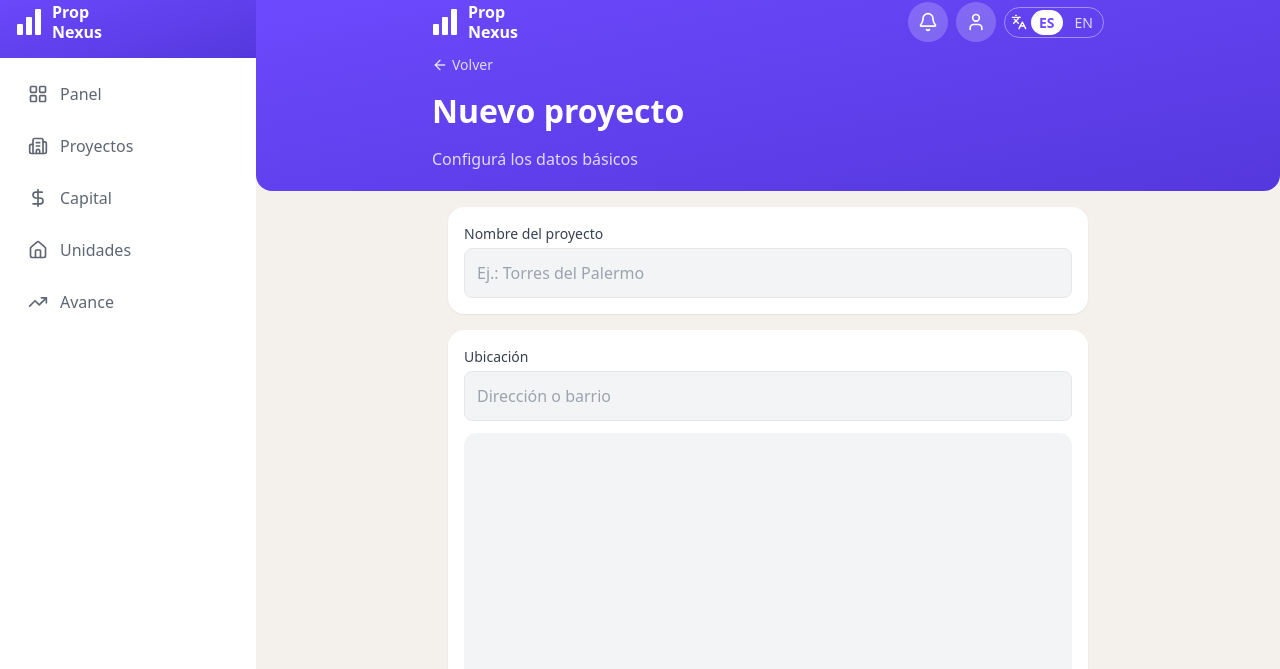
/developer/project/new › una respuesta que llega después de cambiar la dirección se descarta, acierte o falle
Type "Torre X" into the field labelled "Nombre del proyecto" at (768, 273), box [464,248,1072,298]
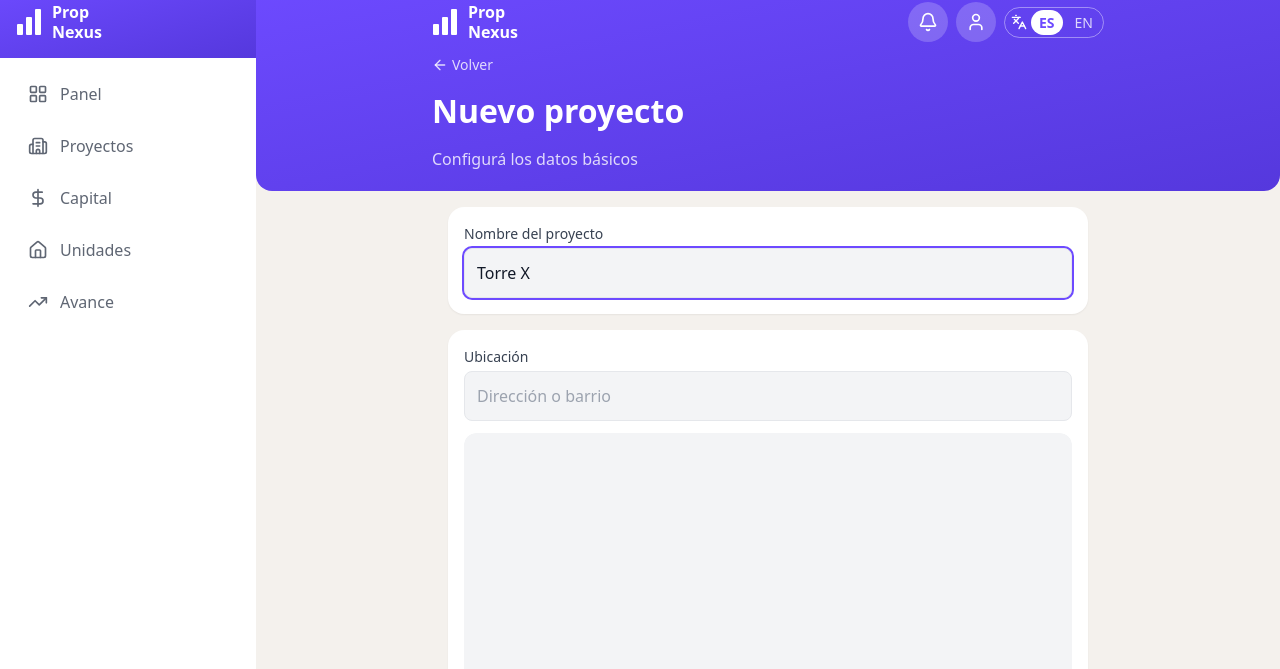
Type "Florida 100" into the field labelled "Ubicación" at (768, 396), box [464,371,1072,421]
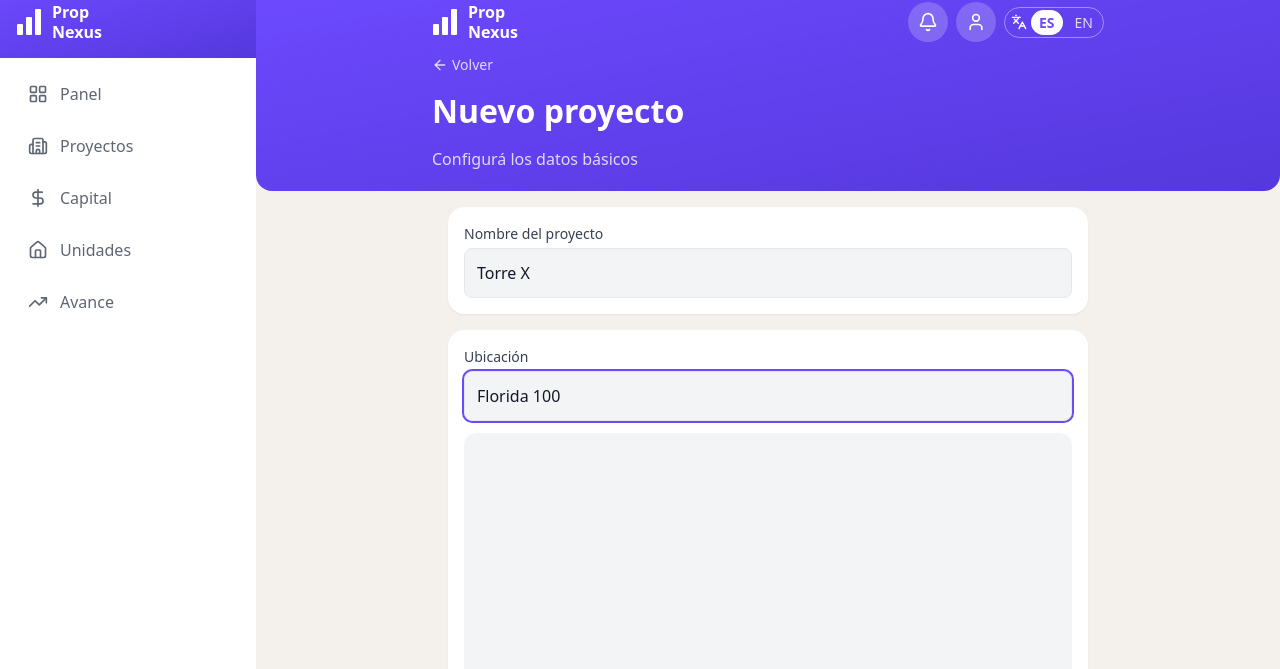
Type "0" into the field labelled "Ubicación" at (768, 396), box [464,371,1072,421]
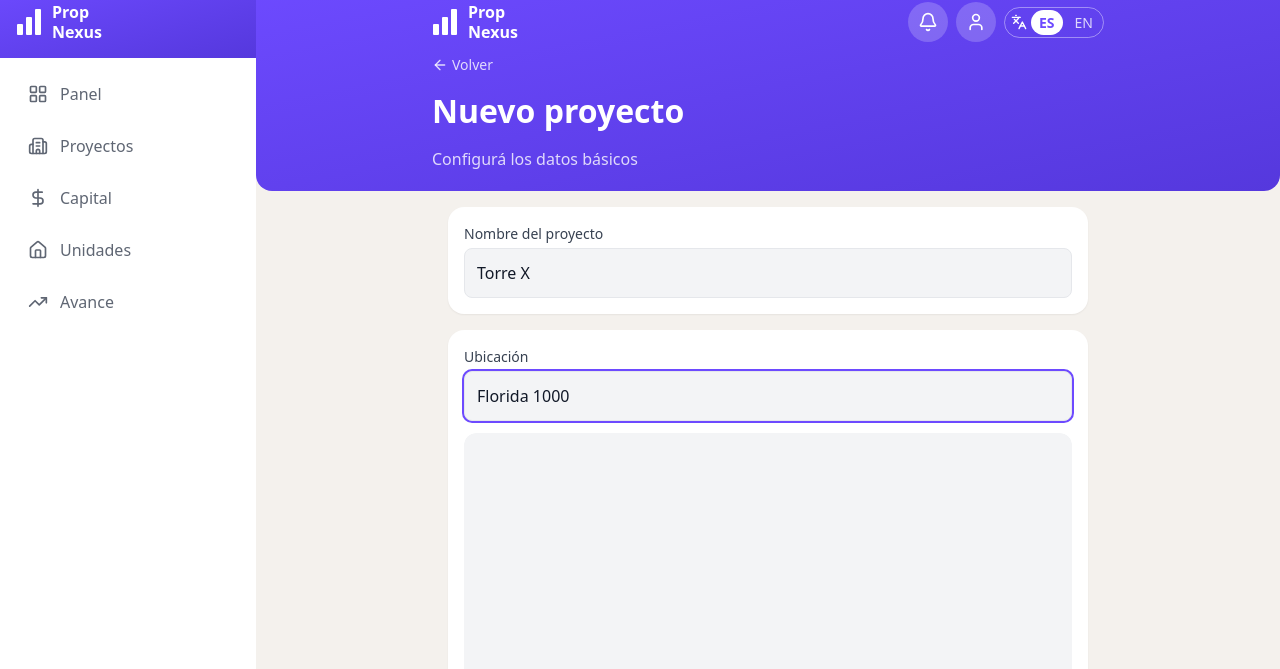
Type "0" into the field labelled "Ubicación" at (768, 396), box [464,371,1072,421]
(page scrolled)
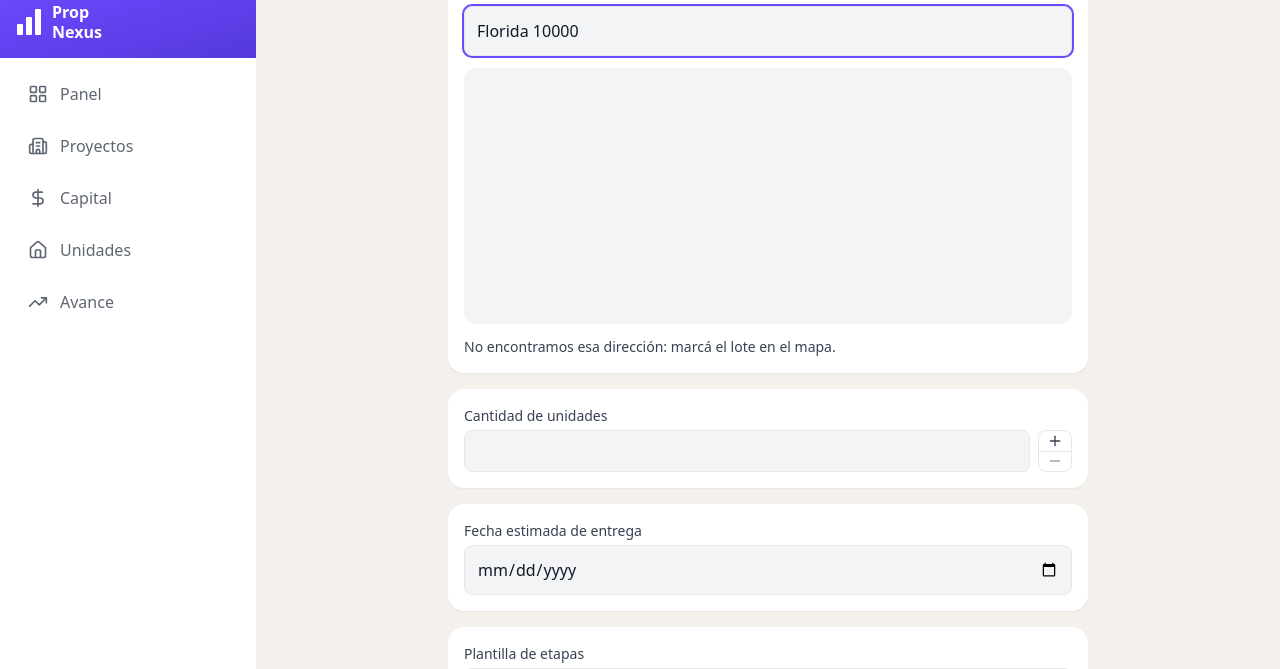
Expected: the text "No encontramos esa dirección: marcá el lote en el mapa." is shown, [464,337,836,356]
